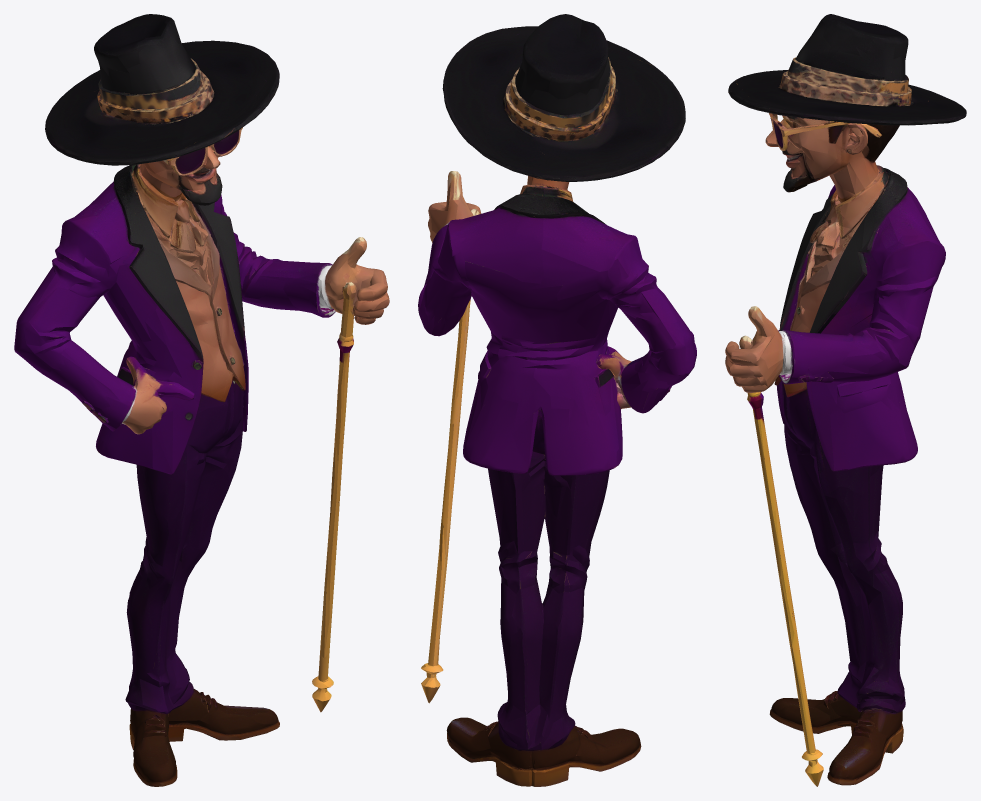
File: maciota-textured.glb
3 views of the same model, side by side, from view 1: azimuth 30°, elevation 25°; view 2: azimuth 150°, elevation 25°; view 3: azimuth 270°, elevation 25° (orthographic). The views are drawn at different scales.
Bounding box in the file's own units: 0.848 × 1.9 × 0.5809.
Materials: 1 (1 with a texture image).
